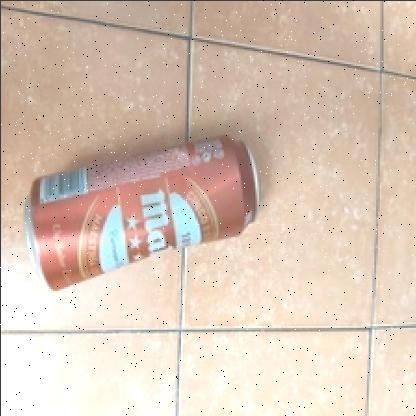Can: (23, 131, 259, 294)
